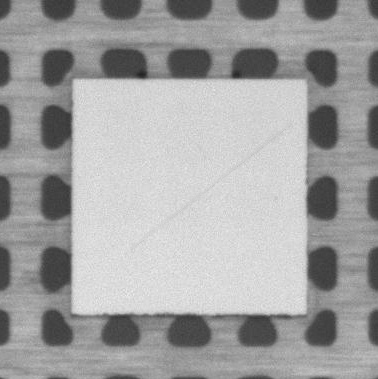DIE_CRACK: (131, 124, 290, 250)
